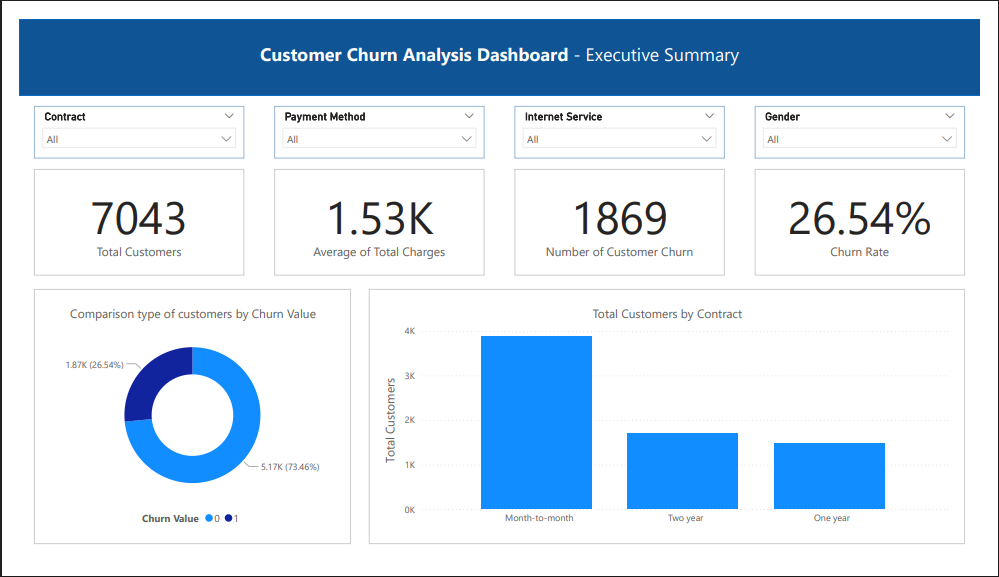

The page's visual inventory and layout, read from the dashboard file:
{"tool":"powerbi","page":{"name":"Executive Summary","canvas":[1280,720],"ordinal":0},"visuals":[{"type":"card","title":"Total Customers","fields":{"Values":["CountNonNull(churn_cleaned_data.Churn Score)"]},"box":[20,200,280,142],"z":0},{"type":"donutChart","fields":{"Y":["CountNonNull(churn_cleaned_data.Churn Value)"],"Category":["churn_cleaned_data.Churn Value"]},"box":[20,360,422,340],"z":1000},{"type":"columnChart","fields":{"Category":["churn_cleaned_data.Contract"],"Y":["churn_cleaned_data.Total Customers"]},"box":[466,360,794,340],"z":2000},{"type":"shape","box":[0,0,1280.8,102],"z":3000},{"type":"textbox","box":[247,24.7,786.7,43.3],"z":4000},{"type":"slicer","fields":{"Values":["churn_cleaned_data.Contract"]},"box":[20,116,280,70],"z":5000},{"type":"slicer","fields":{"Values":["churn_cleaned_data.Payment Method"]},"box":[340,115.8,280,70],"z":6000},{"type":"slicer","fields":{"Values":["churn_cleaned_data.Internet Service"]},"box":[660,115.8,280,70],"z":7000},{"type":"slicer","fields":{"Values":["churn_cleaned_data.Gender"]},"box":[980,116,280,70],"z":8000},{"type":"card","title":"Total Customers","fields":{"Values":["churn_cleaned_data.Churn Rate"]},"box":[980,200,280,142],"z":9000},{"type":"card","title":"Total Customers","fields":{"Values":["churn_cleaned_data.Total Customers"]},"box":[660,200,280,142],"z":10000},{"type":"card","title":"Total Customers","fields":{"Values":["Avg(churn_cleaned_data.Total Charges)"]},"box":[340,200,280,142],"z":11000}]}

Visuals, with their boxes in screenshot pixels (x1, y1, x2, y2), scaled from the page's 1280x720 canvas onto the 999x577 screenshot:
"Total Customers" card: box=[16, 160, 234, 274]
donutChart - CountNonNull(churn_cleaned_data.Churn Value) x churn_cleaned_data.Churn Value: box=[16, 288, 345, 561]
columnChart - churn_cleaned_data.Contract x churn_cleaned_data.Total Customers: box=[364, 288, 983, 561]
shape: box=[0, 0, 998, 82]
textbox: box=[193, 20, 807, 54]
slicer - churn_cleaned_data.Contract: box=[16, 93, 234, 149]
slicer - churn_cleaned_data.Payment Method: box=[265, 93, 484, 149]
slicer - churn_cleaned_data.Internet Service: box=[515, 93, 734, 149]
slicer - churn_cleaned_data.Gender: box=[765, 93, 983, 149]
"Total Customers" card: box=[765, 160, 983, 274]
"Total Customers" card: box=[515, 160, 734, 274]
"Total Customers" card: box=[265, 160, 484, 274]
